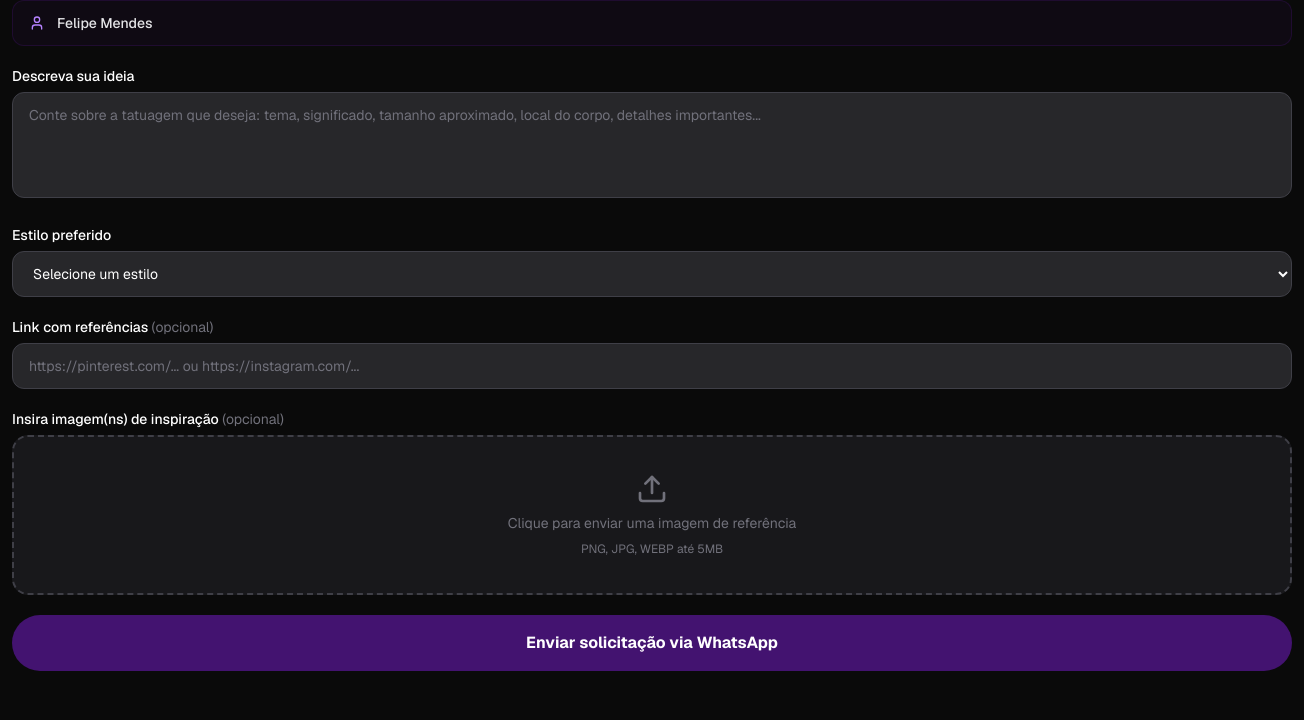
Test: CustomOrderForm › exibe erro se descricao for muito curta
Replace the text in the text box labelled "Descreva sua ideia" with "curto": (652, 145) top-left (12, 92), bottom-right (1292, 198)
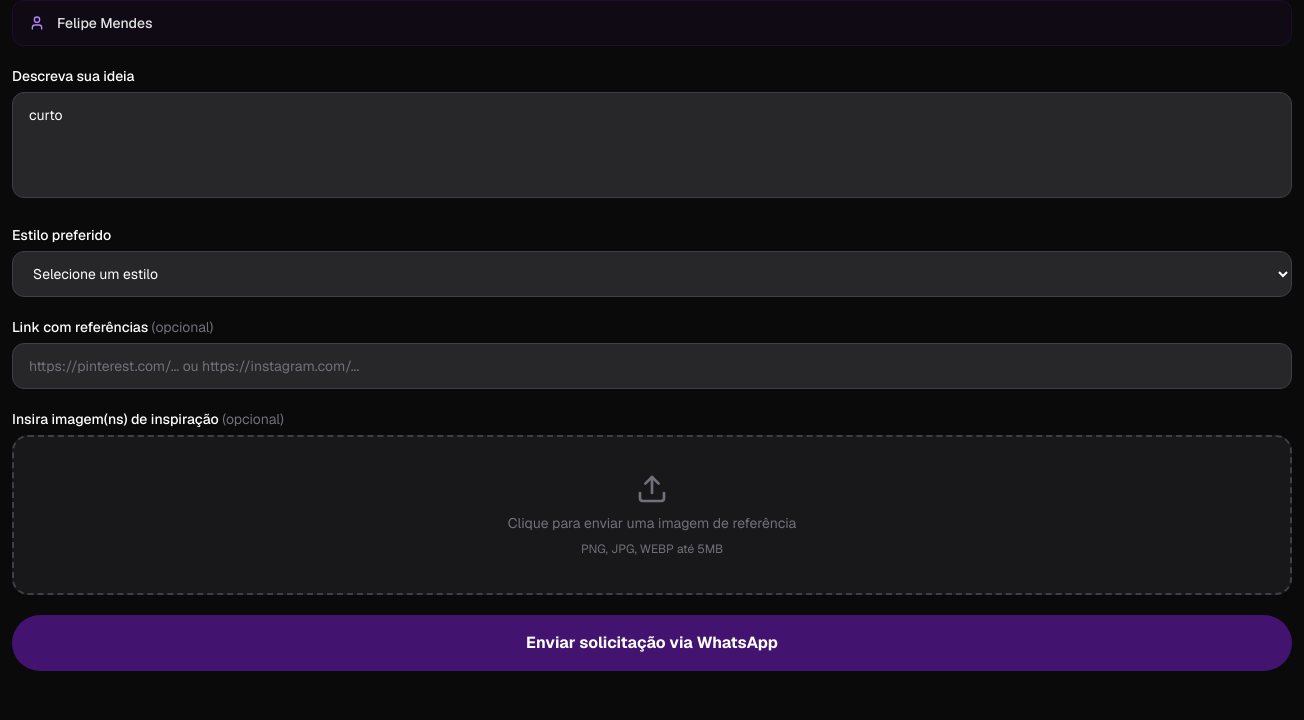
Click the button "Enviar solicitação via WhatsApp": (652, 643) top-left (12, 615), bottom-right (1292, 671)
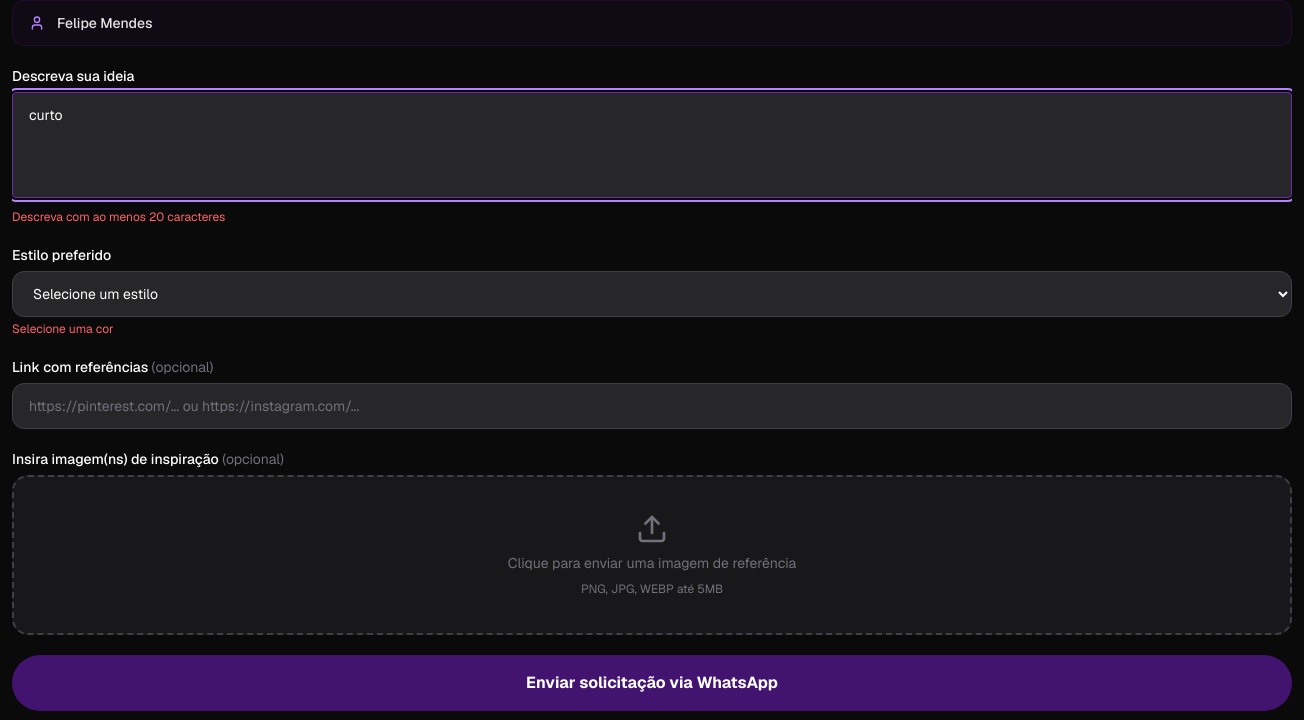
Expected: the text "Descreva com ao menos 20 caracteres" is shown, top-left (12, 209), bottom-right (225, 225)
